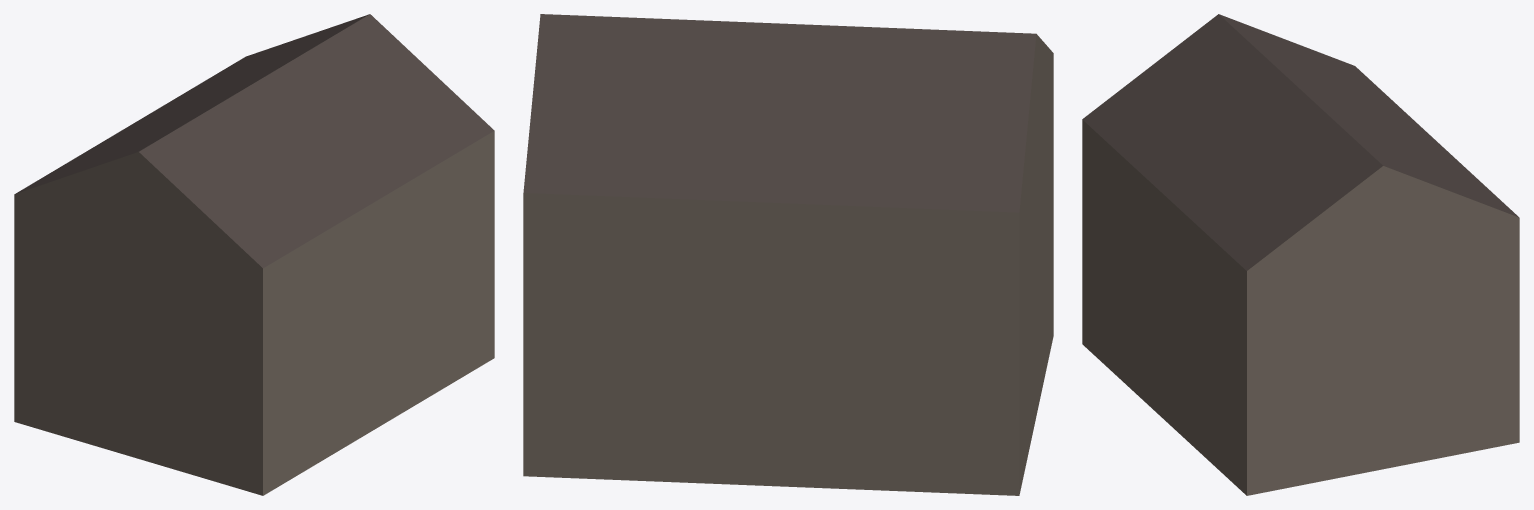
3 views of the same model, side by side, from view 1: azimuth 30°, elevation 25°; view 2: azimuth 150°, elevation 25°; view 3: azimuth 270°, elevation 25° (orthographic). The views are drawn at different scales.
Visible parts, largest first — view 1: HP-w859088525; view 2: HP-w859088525; view 3: HP-w859088525.
Boxes of the visible parts, box(x1,y1,x2,y2) form: HP-w859088525: box(14, 14, 494, 495); HP-w859088525: box(523, 14, 1053, 495); HP-w859088525: box(1082, 14, 1519, 495).
Bounding box in the file's own units: 17.62 × 12.15 × 15.88.
